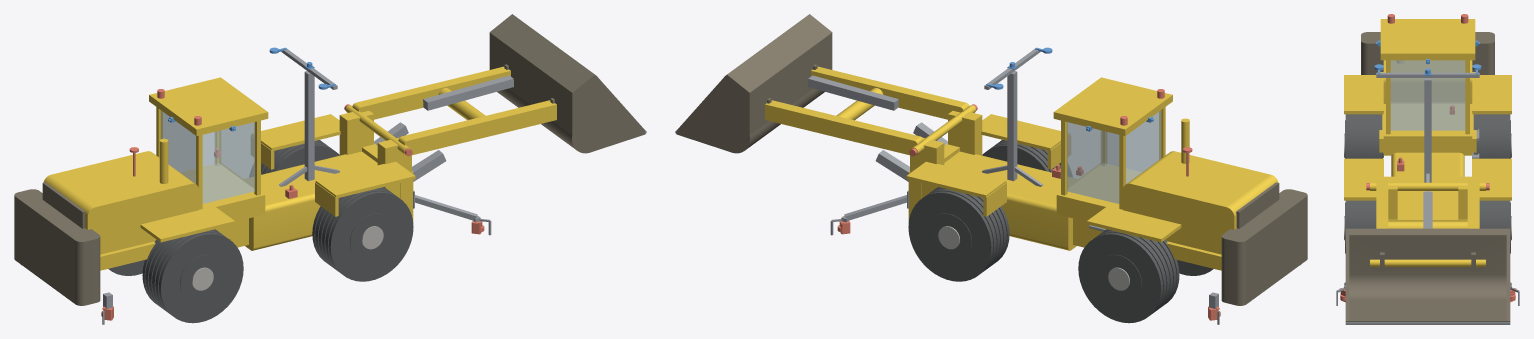
The model's file is kauha_kit.glb.
3 views of the same model, side by side, from view 1: azimuth 30°, elevation 25°; view 2: azimuth 150°, elevation 25°; view 3: azimuth 270°, elevation 25° (orthographic).
Parts seen in each view (by area): view 1: rear_frame, bucket, cab_frame, counterweight, front_frame, rear_tyre_right, front_tyre_right, boom, cab_glass, front_fender_right, front_fender_left, sensor_mast (+5 smaller); view 2: rear_frame, bucket, cab_frame, counterweight, front_frame, rear_tyre_left, front_tyre_left, boom, cab_glass, front_fender_left, front_fender_right, sensor_mast (+5 smaller); view 3: bucket, cab_frame, cab_glass, front_frame, boom, rear_frame, rear_tyre_right, counterweight, rear_tyre_left, rear_fender_left, rear_fender_right, front_fender_left (+6 smaller).
Part boxes in pixels (<box>): rear_frame: <box>43,138,248,270</box>; bucket: <box>489,14,645,153</box>; cab_frame: <box>149,77,268,221</box>; counterweight: <box>14,182,100,305</box>; front_frame: <box>245,111,413,250</box>; rear_tyre_right: <box>142,229,243,323</box>; front_tyre_right: <box>312,187,413,281</box>; boom: <box>345,66,556,156</box>; cab_glass: <box>160,110,254,203</box>; front_fender_right: <box>315,161,415,216</box>; front_fender_left: <box>251,114,340,169</box>; sensor_mast: <box>279,49,339,186</box>; rear_frame: <box>1073,118,1278,270</box>; bucket: <box>676,14,832,153</box>; cab_frame: <box>1053,77,1172,221</box>; counterweight: <box>1221,182,1307,305</box>; front_frame: <box>908,111,1076,250</box>; rear_tyre_left: <box>1078,229,1179,323</box>; front_tyre_left: <box>908,187,1009,281</box>; boom: <box>765,66,976,156</box>; cab_glass: <box>1067,110,1161,203</box>; front_fender_left: <box>906,161,1006,216</box>; front_fender_right: <box>981,114,1070,169</box>; sensor_mast: <box>982,49,1042,186</box>; bucket: <box>1345,228,1510,324</box>; cab_frame: <box>1380,19,1475,155</box>; cab_glass: <box>1390,60,1465,130</box>; front_frame: <box>1382,152,1473,221</box>; boom: <box>1370,180,1485,266</box>; rear_frame: <box>1379,60,1476,152</box>; rear_tyre_right: <box>1345,114,1382,158</box>; counterweight: <box>1361,32,1494,74</box>; rear_tyre_left: <box>1473,114,1510,158</box>; rear_fender_left: <box>1472,75,1511,114</box>; rear_fender_right: <box>1344,75,1383,114</box>; front_fender_left: <box>1472,158,1511,200</box>.
Size of the model in its own units: 10.55 by 3.46 by 3.01.
